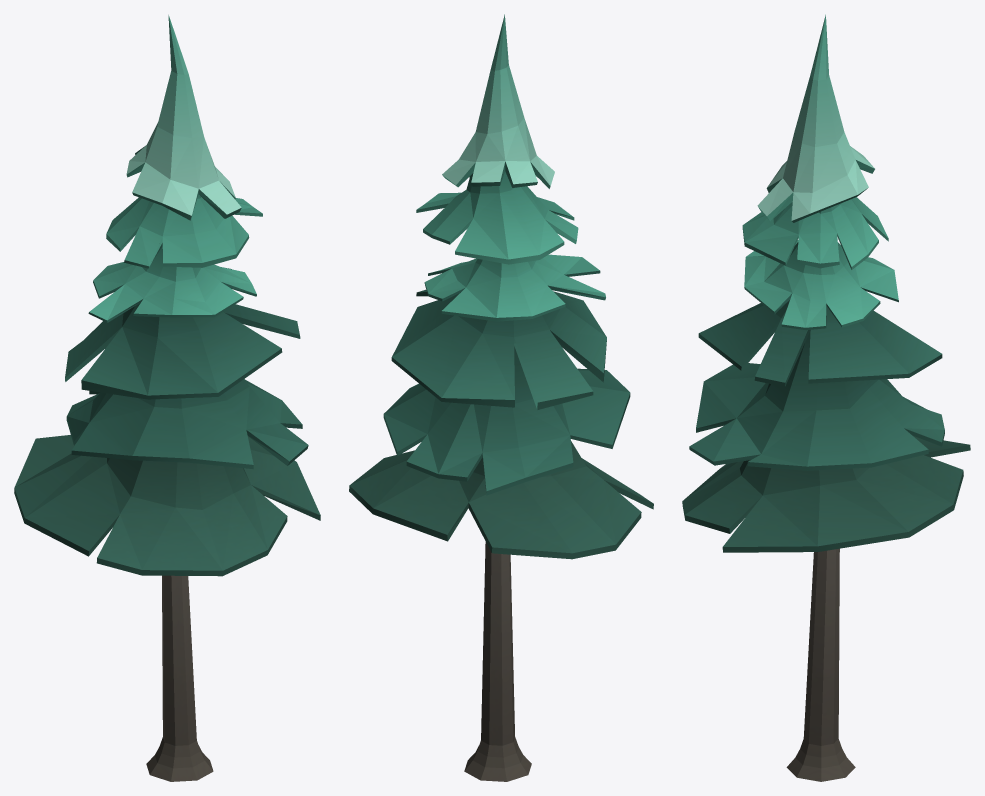
The model's file is ZLP_Plant_K_9.FBX.
3 views of the same model, side by side, from view 1: azimuth 30°, elevation 25°; view 2: azimuth 150°, elevation 25°; view 3: azimuth 270°, elevation 25° (orthographic).
Visible parts, largest first — view 1: ZLP_Plant_K_9; view 2: ZLP_Plant_K_9; view 3: ZLP_Plant_K_9.
Boxes of the visible parts, x1,y1,x2,y2 form: ZLP_Plant_K_9: (14, 15, 320, 781); ZLP_Plant_K_9: (349, 14, 653, 781); ZLP_Plant_K_9: (682, 14, 970, 781).
Size of the model in its own units: 257 by 736 by 257.
